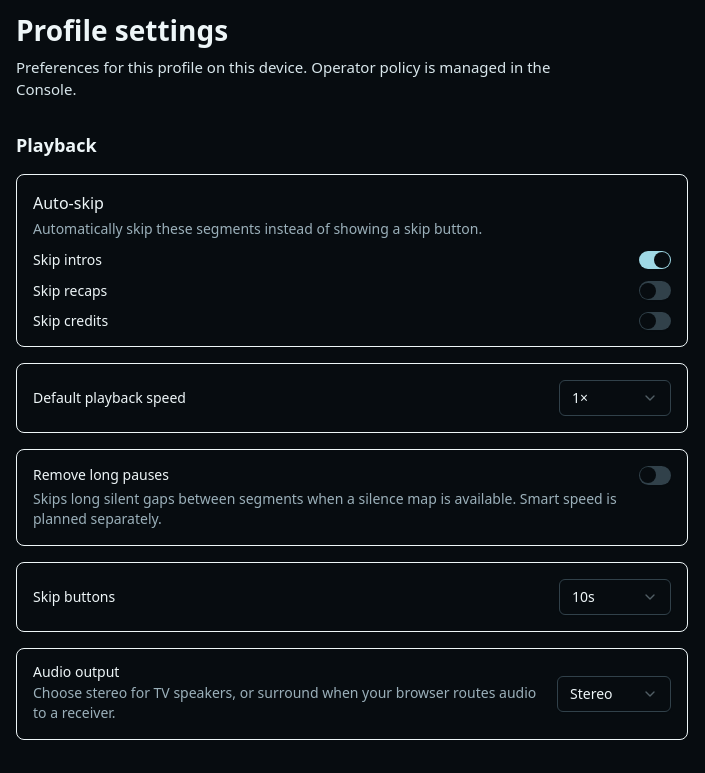
ProfileSettingsPage › surfaces a save error and reloads when a write fails
This screenshot has width=705, height=773.
Click the switch named "Skip recaps" in the row of "Skip recaps" at [655, 291], box x1=639 y1=281 x2=671 y2=300
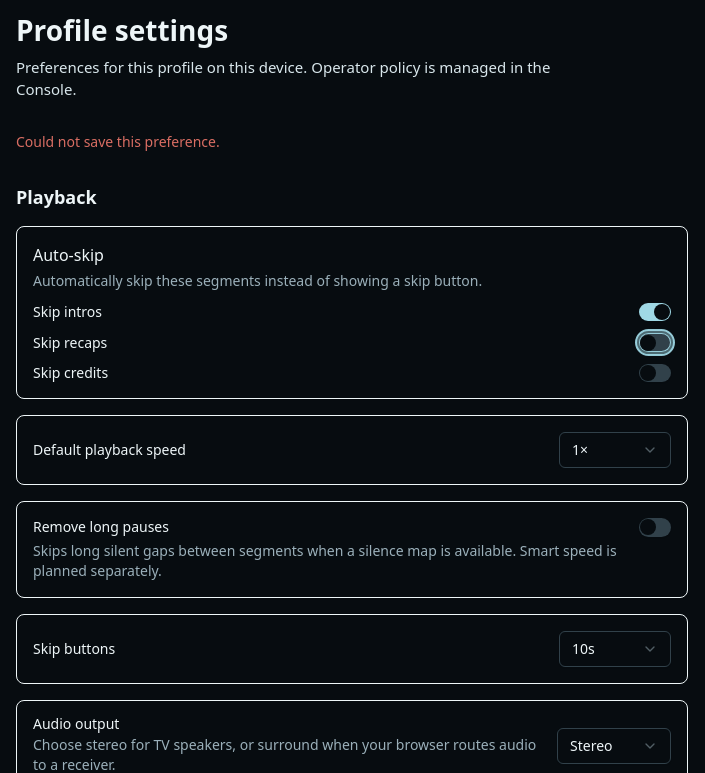
Expected: the message "Could not save this preference." is shown, x1=16 y1=132 x2=220 y2=151
